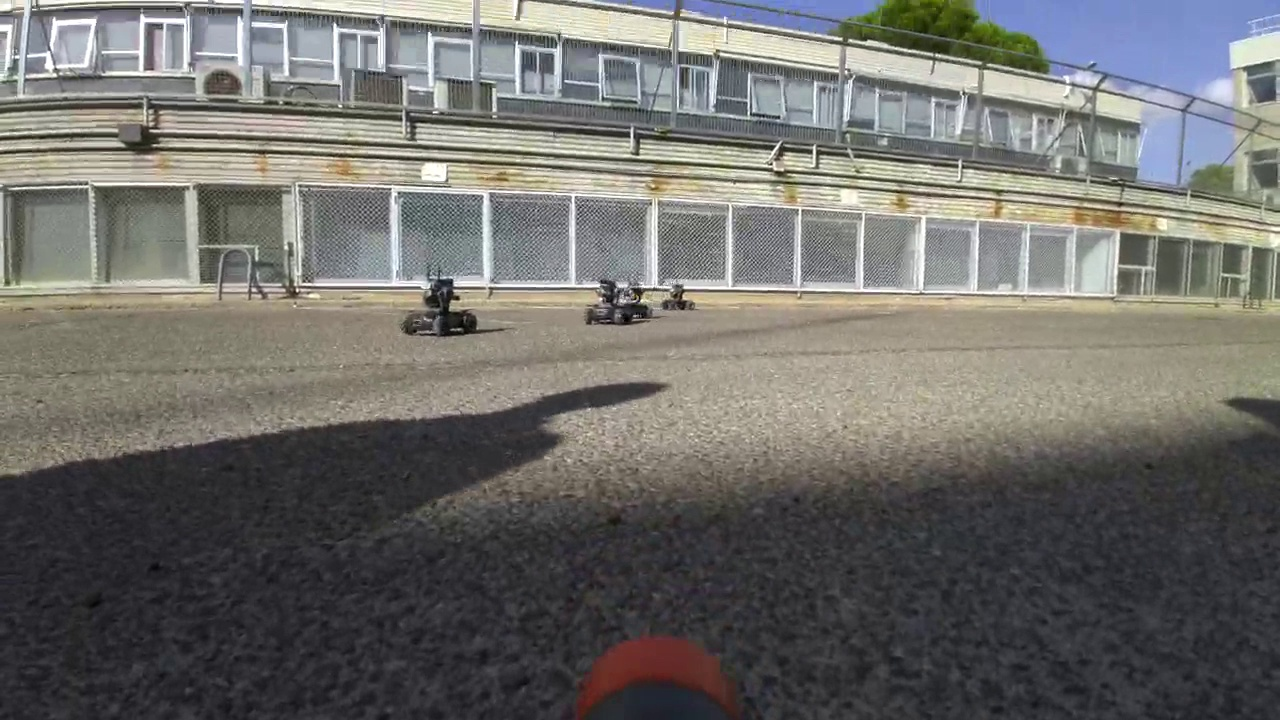robot: (398, 266, 477, 337), (585, 282, 622, 322), (618, 283, 655, 318), (660, 283, 692, 313)
